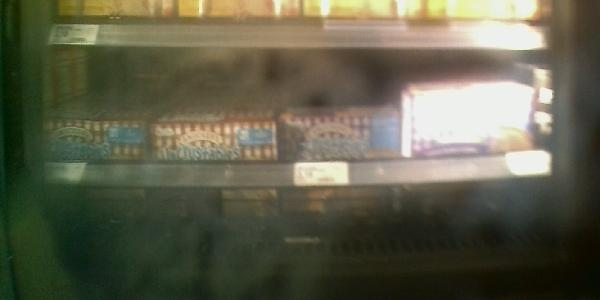icecream: (406, 83, 539, 162), (150, 111, 281, 165), (279, 111, 401, 163), (33, 114, 151, 163)
